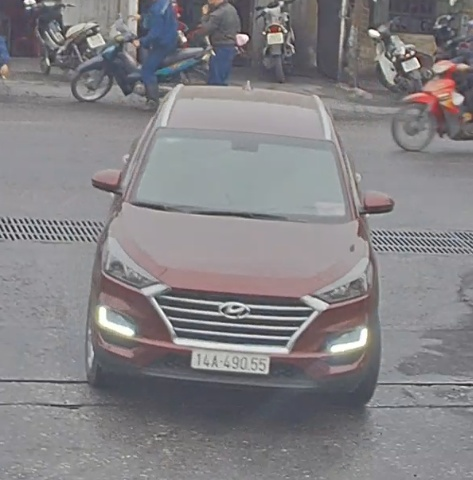vehicle plate: (187, 342, 276, 375)
